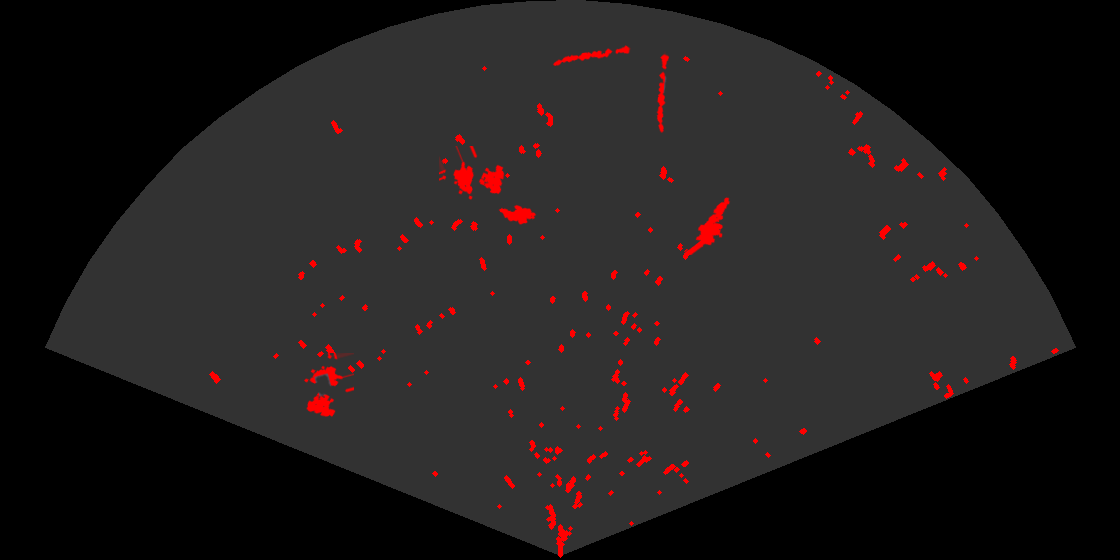AUV: (497, 203, 538, 226)
cage: (439, 146, 506, 201), (302, 353, 354, 419)
chain: (551, 44, 631, 68), (655, 51, 671, 133)
frogman: (684, 196, 732, 255)
